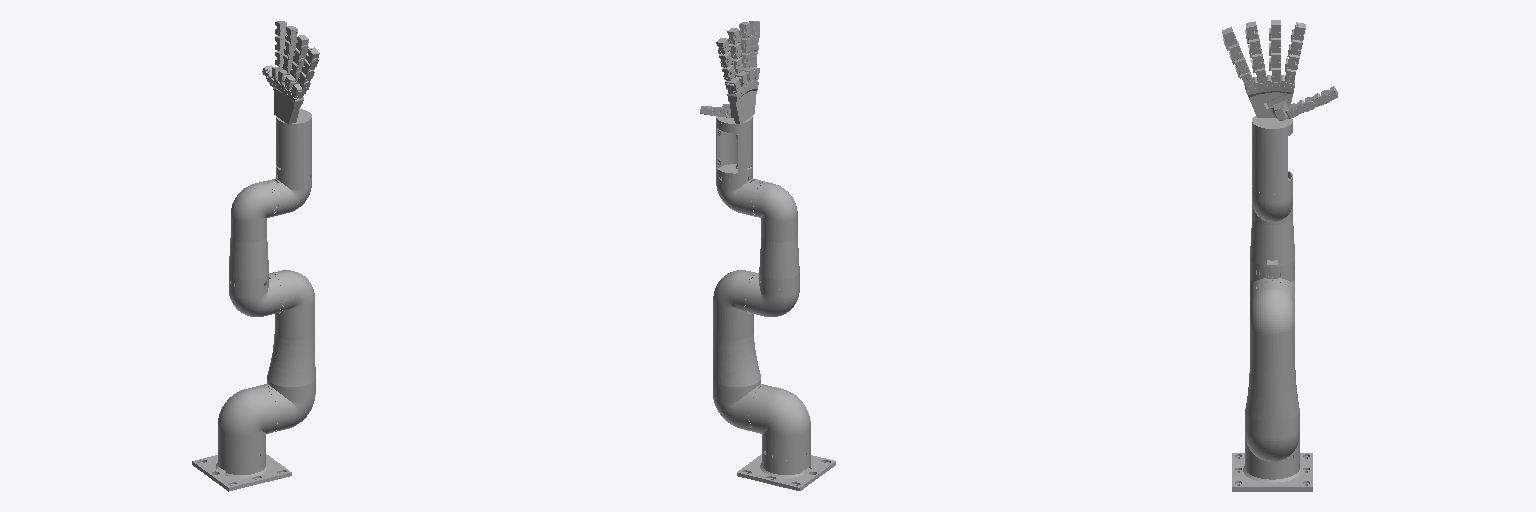
--- Facts derived from the render (not from the file) ---
3 views of the same robot in one strip: view 1: azimuth 30°, elevation 25°; view 2: azimuth 150°, elevation 25°; view 3: azimuth 270°, elevation 25° (orthographic).
Robot: mk — 29 links, 28 joints (26 continuous, 2 fixed); root link world; default pose: every joint at zero.
Visible links, largest first — view 1: link2_1, link4_1, link1_1, base_link, link6_1, link3_1, palm_1, link5_1; view 2: link2_1, link4_1, link1_1, base_link, link6_1, link3_1, palm_1, link5_1; view 3: link2_1, base_link, link4_1, link6_1, palm_1, link5_1, link3_1.
Boxes of the visible links, x1=… form: link2_1: x1=264, y1=270, x2=315, y2=431; link4_1: x1=229, y1=181, x2=276, y2=286; link1_1: x1=218, y1=385, x2=278, y2=457; base_link: x1=192, y1=450, x2=291, y2=491; link6_1: x1=276, y1=120, x2=311, y2=180; link3_1: x1=229, y1=274, x2=283, y2=316; palm_1: x1=272, y1=70, x2=311, y2=125; link5_1: x1=265, y1=175, x2=311, y2=216; link2_1: x1=713, y1=270, x2=763, y2=431; link4_1: x1=752, y1=181, x2=799, y2=286; link1_1: x1=749, y1=385, x2=810, y2=457; base_link: x1=737, y1=450, x2=835, y2=490; link6_1: x1=716, y1=119, x2=752, y2=180; link3_1: x1=745, y1=274, x2=799, y2=316; palm_1: x1=716, y1=71, x2=758, y2=125; link5_1: x1=716, y1=174, x2=762, y2=216; link2_1: x1=1245, y1=281, x2=1299, y2=461; base_link: x1=1232, y1=450, x2=1312, y2=491; link4_1: x1=1250, y1=205, x2=1294, y2=274; link6_1: x1=1252, y1=124, x2=1292, y2=192; palm_1: x1=1244, y1=71, x2=1294, y2=130; link5_1: x1=1252, y1=186, x2=1292, y2=221; link3_1: x1=1250, y1=268, x2=1294, y2=296.
Bounding box of the posed robot: 0.291 × 0.2565 × 1.17 m (x, y, z).
Meshes: 28 distinct files referenced, 28 mesh visuals loaded (28 binary STL).

URDF robot description (mk):
<?xml version="1.0" ?>
<!-- =================================================================================== -->
<!-- |    This document was autogenerated by xacro from [local-path]/catkin_ws/src/mk_description/urdf/mk.xacro | -->
<!-- |    EDITING THIS FILE BY HAND IS NOT RECOMMENDED                                 | -->
<!-- =================================================================================== -->
<robot name="mk">
    <material name="silver">
        <color rgba="0.700 0.700 0.700 1.000" />
    </material>
    <transmission name="joint1_tran">
        <type>transmission_interface/SimpleTransmission</type>
        <joint name="joint1">
            <hardwareInterface>hardware_interface/EffortJointInterface</hardwareInterface>
        </joint>
        <actuator name="joint1_actr">
            <hardwareInterface>hardware_interface/EffortJointInterface</hardwareInterface>
            <mechanicalReduction>1</mechanicalReduction>
        </actuator>
    </transmission>
    <transmission name="joint2_tran">
        <type>transmission_interface/SimpleTransmission</type>
        <joint name="joint2">
            <hardwareInterface>hardware_interface/EffortJointInterface</hardwareInterface>
        </joint>
        <actuator name="joint2_actr">
            <hardwareInterface>hardware_interface/EffortJointInterface</hardwareInterface>
            <mechanicalReduction>1</mechanicalReduction>
        </actuator>
    </transmission>
    <transmission name="joint3_tran">
        <type>transmission_interface/SimpleTransmission</type>
        <joint name="joint3">
            <hardwareInterface>hardware_interface/EffortJointInterface</hardwareInterface>
        </joint>
        <actuator name="joint3_actr">
            <hardwareInterface>hardware_interface/EffortJointInterface</hardwareInterface>
            <mechanicalReduction>1</mechanicalReduction>
        </actuator>
    </transmission>
    <transmission name="joint4_tran">
        <type>transmission_interface/SimpleTransmission</type>
        <joint name="joint4">
            <hardwareInterface>hardware_interface/EffortJointInterface</hardwareInterface>
        </joint>
        <actuator name="joint4_actr">
            <hardwareInterface>hardware_interface/EffortJointInterface</hardwareInterface>
            <mechanicalReduction>1</mechanicalReduction>
        </actuator>
    </transmission>
    <transmission name="joint5_tran">
        <type>transmission_interface/SimpleTransmission</type>
        <joint name="joint5">
            <hardwareInterface>hardware_interface/EffortJointInterface</hardwareInterface>
        </joint>
        <actuator name="joint5_actr">
            <hardwareInterface>hardware_interface/EffortJointInterface</hardwareInterface>
            <mechanicalReduction>1</mechanicalReduction>
        </actuator>
    </transmission>
    <transmission name="joint6_tran">
        <type>transmission_interface/SimpleTransmission</type>
        <joint name="joint6">
            <hardwareInterface>hardware_interface/EffortJointInterface</hardwareInterface>
        </joint>
        <actuator name="joint6_actr">
            <hardwareInterface>hardware_interface/EffortJointInterface</hardwareInterface>
            <mechanicalReduction>1</mechanicalReduction>
        </actuator>
    </transmission>
    <transmission name="joint_index_RT_tran">
        <type>transmission_interface/SimpleTransmission</type>
        <joint name="joint_index_RT">
            <hardwareInterface>hardware_interface/EffortJointInterface</hardwareInterface>
        </joint>
        <actuator name="joint_index_RT_actr">
            <hardwareInterface>hardware_interface/EffortJointInterface</hardwareInterface>
            <mechanicalReduction>1</mechanicalReduction>
        </actuator>
    </transmission>
    <transmission name="joint_middle_RT_tran">
        <type>transmission_interface/SimpleTransmission</type>
        <joint name="joint_middle_RT">
            <hardwareInterface>hardware_interface/EffortJointInterface</hardwareInterface>
        </joint>
        <actuator name="joint_middle_RT_actr">
            <hardwareInterface>hardware_interface/EffortJointInterface</hardwareInterface>
            <mechanicalReduction>1</mechanicalReduction>
        </actuator>
    </transmission>
    <transmission name="joint_ring_RT_tran">
        <type>transmission_interface/SimpleTransmission</type>
        <joint name="joint_ring_RT">
            <hardwareInterface>hardware_interface/EffortJointInterface</hardwareInterface>
        </joint>
        <actuator name="joint_ring_RT_actr">
            <hardwareInterface>hardware_interface/EffortJointInterface</hardwareInterface>
            <mechanicalReduction>1</mechanicalReduction>
        </actuator>
    </transmission>
    <transmission name="joint_pinky_RT_tran">
        <type>transmission_interface/SimpleTransmission</type>
        <joint name="joint_pinky_RT">
            <hardwareInterface>hardware_interface/EffortJointInterface</hardwareInterface>
        </joint>
        <actuator name="joint_pinky_RT_actr">
            <hardwareInterface>hardware_interface/EffortJointInterface</hardwareInterface>
            <mechanicalReduction>1</mechanicalReduction>
        </actuator>
    </transmission>
    <transmission name="joint_index_MCP_tran">
        <type>transmission_interface/SimpleTransmission</type>
        <joint name="joint_index_MCP">
            <hardwareInterface>hardware_interface/EffortJointInterface</hardwareInterface>
        </joint>
        <actuator name="joint_index_MCP_actr">
            <hardwareInterface>hardware_interface/EffortJointInterface</hardwareInterface>
            <mechanicalReduction>1</mechanicalReduction>
        </actuator>
    </transmission>
    <transmission name="joint_index_PIP_tran">
        <type>transmission_interface/SimpleTransmission</type>
        <joint name="joint_index_PIP">
            <hardwareInterface>hardware_interface/EffortJointInterface</hardwareInterface>
        </joint>
        <actuator name="joint_index_PIP_actr">
            <hardwareInterface>hardware_interface/EffortJointInterface</hardwareInterface>
            <mechanicalReduction>1</mechanicalReduction>
        </actuator>
    </transmission>
    <transmission name="joint_index_DIP_tran">
        <type>transmission_interface/SimpleTransmission</type>
        <joint name="joint_index_DIP">
            <hardwareInterface>hardware_interface/EffortJointInterface</hardwareInterface>
        </joint>
        <actuator name="joint_index_DIP_actr">
            <hardwareInterface>hardware_interface/EffortJointInterface</hardwareInterface>
            <mechanicalReduction>1</mechanicalReduction>
        </actuator>
    </transmission>
    <transmission name="joint_middle_MCP_tran">
        <type>transmission_interface/SimpleTransmission</type>
        <joint name="joint_middle_MCP">
            <hardwareInterface>hardware_interface/EffortJointInterface</hardwareInterface>
        </joint>
        <actuator name="joint_middle_MCP_actr">
            <hardwareInterface>hardware_interface/EffortJointInterface</hardwareInterface>
            <mechanicalReduction>1</mechanicalReduction>
        </actuator>
    </transmission>
    <transmission name="joint_middle_PIP_tran">
        <type>transmission_interface/SimpleTransmission</type>
        <joint name="joint_middle_PIP">
            <hardwareInterface>hardware_interface/EffortJointInterface</hardwareInterface>
        </joint>
        <actuator name="joint_middle_PIP_actr">
            <hardwareInterface>hardware_interface/EffortJointInterface</hardwareInterface>
            <mechanicalReduction>1</mechanicalReduction>
        </actuator>
    </transmission>
    <transmission name="joint_middle_DIP_tran">
        <type>transmission_interface/SimpleTransmission</type>
        <joint name="joint_middle_DIP">
            <hardwareInterface>hardware_interface/EffortJointInterface</hardwareInterface>
        </joint>
        <actuator name="joint_middle_DIP_actr">
            <hardwareInterface>hardware_interface/EffortJointInterface</hardwareInterface>
            <mechanicalReduction>1</mechanicalReduction>
        </actuator>
    </transmission>
    <transmission name="joint_ring_MCP_tran">
        <type>transmission_interface/SimpleTransmission</type>
        <joint name="joint_ring_MCP">
            <hardwareInterface>hardware_interface/EffortJointInterface</hardwareInterface>
        </joint>
        <actuator name="joint_ring_MCP_actr">
            <hardwareInterface>hardware_interface/EffortJointInterface</hardwareInterface>
            <mechanicalReduction>1</mechanicalReduction>
        </actuator>
    </transmission>
    <transmission name="joint_ring_PIP_tran">
        <type>transmission_interface/SimpleTransmission</type>
        <joint name="joint_ring_PIP">
            <hardwareInterface>hardware_interface/EffortJointInterface</hardwareInterface>
        </joint>
        <actuator name="joint_ring_PIP_actr">
            <hardwareInterface>hardware_interface/EffortJointInterface</hardwareInterface>
            <mechanicalReduction>1</mechanicalReduction>
        </actuator>
    </transmission>
    <transmission name="joint_ring_DIP_tran">
        <type>transmission_interface/SimpleTransmission</type>
        <joint name="joint_ring_DIP">
            <hardwareInterface>hardware_interface/EffortJointInterface</hardwareInterface>
        </joint>
        <actuator name="joint_ring_DIP_actr">
            <hardwareInterface>hardware_interface/EffortJointInterface</hardwareInterface>
            <mechanicalReduction>1</mechanicalReduction>
        </actuator>
    </transmission>
    <transmission name="joint_pinky_MCP_tran">
        <type>transmission_interface/SimpleTransmission</type>
        <joint name="joint_pinky_MCP">
            <hardwareInterface>hardware_interface/EffortJointInterface</hardwareInterface>
        </joint>
        <actuator name="joint_pinky_MCP_actr">
            <hardwareInterface>hardware_interface/EffortJointInterface</hardwareInterface>
            <mechanicalReduction>1</mechanicalReduction>
        </actuator>
    </transmission>
    <transmission name="joint_pinky_PIP_tran">
        <type>transmission_interface/SimpleTransmission</type>
        <joint name="joint_pinky_PIP">
            <hardwareInterface>hardware_interface/EffortJointInterface</hardwareInterface>
        </joint>
        <actuator name="joint_pinky_PIP_actr">
            <hardwareInterface>hardware_interface/EffortJointInterface</hardwareInterface>
            <mechanicalReduction>1</mechanicalReduction>
        </actuator>
    </transmission>
    <transmission name="joint_pinky_DIP_tran">
        <type>transmission_interface/SimpleTransmission</type>
        <joint name="joint_pinky_DIP">
            <hardwareInterface>hardware_interface/EffortJointInterface</hardwareInterface>
        </joint>
        <actuator name="joint_pinky_DIP_actr">
            <hardwareInterface>hardware_interface/EffortJointInterface</hardwareInterface>
            <mechanicalReduction>1</mechanicalReduction>
        </actuator>
    </transmission>
    <transmission name="joint_thumb_CMC_1_tran">
        <type>transmission_interface/SimpleTransmission</type>
        <joint name="joint_thumb_CMC_1">
            <hardwareInterface>hardware_interface/EffortJointInterface</hardwareInterface>
        </joint>
        <actuator name="joint_thumb_CMC_1_actr">
            <hardwareInterface>hardware_interface/EffortJointInterface</hardwareInterface>
            <mechanicalReduction>1</mechanicalReduction>
        </actuator>
    </transmission>
    <transmission name="joint_thumb_CMC_2_tran">
        <type>transmission_interface/SimpleTransmission</type>
        <joint name="joint_thumb_CMC_2">
            <hardwareInterface>hardware_interface/EffortJointInterface</hardwareInterface>
        </joint>
        <actuator name="joint_thumb_CMC_2_actr">
            <hardwareInterface>hardware_interface/EffortJointInterface</hardwareInterface>
            <mechanicalReduction>1</mechanicalReduction>
        </actuator>
    </transmission>
    <transmission name="joint_thumb_MP_tran">
        <type>transmission_interface/SimpleTransmission</type>
        <joint name="joint_thumb_MP">
            <hardwareInterface>hardware_interface/EffortJointInterface</hardwareInterface>
        </joint>
        <actuator name="joint_thumb_MP_actr">
            <hardwareInterface>hardware_interface/EffortJointInterface</hardwareInterface>
            <mechanicalReduction>1</mechanicalReduction>
        </actuator>
    </transmission>
    <transmission name="joint_thumb_IP_tran">
        <type>transmission_interface/SimpleTransmission</type>
        <joint name="joint_thumb_IP">
            <hardwareInterface>hardware_interface/EffortJointInterface</hardwareInterface>
        </joint>
        <actuator name="joint_thumb_IP_actr">
            <hardwareInterface>hardware_interface/EffortJointInterface</hardwareInterface>
            <mechanicalReduction>1</mechanicalReduction>
        </actuator>
    </transmission>
    <gazebo>
        <plugin filename="libgazebo_ros_control.so" name="control" />
        <plugin name="gazebo_ros_control" filename="libgazebo_ros_control.so">
            <robotNamespace>/</robotNamespace>
        </plugin>
    </gazebo>
    <gazebo reference="base_link">
        <material>Gazebo/Silver</material>
        <mu1>0.2</mu1>
        <mu2>0.2</mu2>
        <selfCollide>true</selfCollide>
        <gravity>true</gravity>
    </gazebo>
    <gazebo reference="link1_1">
        <material>Gazebo/Silver</material>
        <mu1>0.2</mu1>
        <mu2>0.2</mu2>
        <selfCollide>true</selfCollide>
    </gazebo>
    <gazebo reference="link2_1">
        <material>Gazebo/Silver</material>
        <mu1>0.2</mu1>
        <mu2>0.2</mu2>
        <selfCollide>true</selfCollide>
    </gazebo>
    <gazebo reference="link3_1">
        <material>Gazebo/Silver</material>
        <mu1>0.2</mu1>
        <mu2>0.2</mu2>
        <selfCollide>true</selfCollide>
    </gazebo>
    <gazebo reference="link4_1">
        <material>Gazebo/Silver</material>
        <mu1>0.2</mu1>
        <mu2>0.2</mu2>
        <selfCollide>true</selfCollide>
    </gazebo>
    <gazebo reference="link5_1">
        <material>Gazebo/Silver</material>
        <mu1>0.2</mu1>
        <mu2>0.2</mu2>
        <selfCollide>true</selfCollide>
    </gazebo>
    <gazebo reference="link6_1">
        <material>Gazebo/Silver</material>
        <mu1>0.2</mu1>
        <mu2>0.2</mu2>
        <selfCollide>true</selfCollide>
    </gazebo>
    <gazebo reference="palm_1">
        <material>Gazebo/Silver</material>
        <mu1>0.2</mu1>
        <mu2>0.2</mu2>
        <selfCollide>true</selfCollide>
    </gazebo>
    <gazebo reference="index_1_1">
        <material>Gazebo/Silver</material>
        <mu1>0.2</mu1>
        <mu2>0.2</mu2>
        <selfCollide>true</selfCollide>
    </gazebo>
    <gazebo reference="middle_1_1">
        <material>Gazebo/Silver</material>
        <mu1>0.2</mu1>
        <mu2>0.2</mu2>
        <selfCollide>true</selfCollide>
    </gazebo>
    <gazebo reference="ring_1_1">
        <material>Gazebo/Silver</material>
        <mu1>0.2</mu1>
        <mu2>0.2</mu2>
        <selfCollide>true</selfCollide>
    </gazebo>
    <gazebo reference="pinky_1_1">
        <material>Gazebo/Silver</material>
        <mu1>0.2</mu1>
        <mu2>0.2</mu2>
        <selfCollide>true</selfCollide>
    </gazebo>
    <gazebo reference="index_2_1">
        <material>Gazebo/Silver</material>
        <mu1>0.2</mu1>
        <mu2>0.2</mu2>
        <selfCollide>true</selfCollide>
    </gazebo>
    <gazebo reference="index_3_1">
        <material>Gazebo/Silver</material>
        <mu1>0.2</mu1>
        <mu2>0.2</mu2>
        <selfCollide>true</selfCollide>
    </gazebo>
    <gazebo reference="index_4_1">
        <material>Gazebo/Silver</material>
        <mu1>0.2</mu1>
        <mu2>0.2</mu2>
        <selfCollide>true</selfCollide>
    </gazebo>
    <gazebo reference="middle_2_1">
        <material>Gazebo/Silver</material>
        <mu1>0.2</mu1>
        <mu2>0.2</mu2>
        <selfCollide>true</selfCollide>
    </gazebo>
    <gazebo reference="middle_3_1">
        <material>Gazebo/Silver</material>
        <mu1>0.2</mu1>
        <mu2>0.2</mu2>
        <selfCollide>true</selfCollide>
    </gazebo>
    <gazebo reference="middle_4_1">
        <material>Gazebo/Silver</material>
        <mu1>0.2</mu1>
        <mu2>0.2</mu2>
        <selfCollide>true</selfCollide>
    </gazebo>
    <gazebo reference="ring_2_1">
        <material>Gazebo/Silver</material>
        <mu1>0.2</mu1>
        <mu2>0.2</mu2>
        <selfCollide>true</selfCollide>
    </gazebo>
    <gazebo reference="ring_3_1">
        <material>Gazebo/Silver</material>
        <mu1>0.2</mu1>
        <mu2>0.2</mu2>
        <selfCollide>true</selfCollide>
    </gazebo>
    <gazebo reference="ring_4_1">
        <material>Gazebo/Silver</material>
        <mu1>0.2</mu1>
        <mu2>0.2</mu2>
        <selfCollide>true</selfCollide>
    </gazebo>
    <gazebo reference="pinky_2_1">
        <material>Gazebo/Silver</material>
        <mu1>0.2</mu1>
        <mu2>0.2</mu2>
        <selfCollide>true</selfCollide>
    </gazebo>
    <gazebo reference="pinky_3_1">
        <material>Gazebo/Silver</material>
        <mu1>0.2</mu1>
        <mu2>0.2</mu2>
        <selfCollide>true</selfCollide>
    </gazebo>
    <gazebo reference="pinky_4_1">
        <material>Gazebo/Silver</material>
        <mu1>0.2</mu1>
        <mu2>0.2</mu2>
        <selfCollide>true</selfCollide>
    </gazebo>
    <gazebo reference="thumb_1_1">
        <material>Gazebo/Silver</material>
        <mu1>0.2</mu1>
        <mu2>0.2</mu2>
        <selfCollide>true</selfCollide>
    </gazebo>
    <gazebo reference="thumb_2_1">
        <material>Gazebo/Silver</material>
        <mu1>0.2</mu1>
        <mu2>0.2</mu2>
        <selfCollide>true</selfCollide>
    </gazebo>
    <gazebo reference="thumb_3_1">
        <material>Gazebo/Silver</material>
        <mu1>0.2</mu1>
        <mu2>0.2</mu2>
        <selfCollide>true</selfCollide>
    </gazebo>
    <gazebo reference="thumb_4_1">
        <material>Gazebo/Silver</material>
        <mu1>0.2</mu1>
        <mu2>0.2</mu2>
        <selfCollide>true</selfCollide>
    </gazebo>
    <link name="base_link">
        <inertial>
            <origin rpy="0 0 0" xyz="0.001253595501875241 -2.425128974916387e-16 0.016880943454350202" />
            <mass value="9.000971366531325" />
            <inertia ixx="0.010003" ixy="0.0" ixz="3e-05" iyy="0.009958" iyz="-0.0" izz="0.017765" />
        </inertial>
        <visual>
            <origin rpy="0 0 0" xyz="0 0 0" />
            <geometry>
                <mesh filename="package://mk_description/meshes/base_link.stl" scale="0.001 0.001 0.001" />
            </geometry>
            <material name="silver" />
        </visual>
        <collision>
            <origin rpy="0 0 0" xyz="0 0 0" />
            <geometry>
                <mesh filename="package://mk_description/meshes/base_link.stl" scale="0.001 0.001 0.001" />
            </geometry>
        </collision>
    </link>
    <link name="link1_1">
        <inertial>
            <origin rpy="0 0 0" xyz="0.012757531934532012 1.2186053422867295e-12 0.06719265641075811" />
            <mass value="0.00001" />
            <inertia ixx="0.011232" ixy="0.0" ixz="-0.001286" iyy="0.011123" iyz="0.0" izz="0.009013" />
        </inertial>
        <visual>
            <origin rpy="0 0 0" xyz="-0.0 -0.0 -0.061" />
            <geometry>
                <mesh filename="package://mk_description/meshes/link1_1.stl" scale="0.001 0.001 0.001" />
            </geometry>
            <material name="silver" />
        </visual>
        <collision>
            <origin rpy="0 0 0" xyz="-0.0 -0.0 -0.061" />
            <geometry>
                <mesh filename="package://mk_description/meshes/link1_1.stl" scale="0.001 0.001 0.001" />
            </geometry>
        </collision>
    </link>
    <link name="link2_1">
        <inertial>
            <origin rpy="0 0 0" xyz="0.07202168862575391 -3.5313984794949443e-12 0.1445001916818219" />
            <mass value="0.00001" />
            <inertia ixx="0.132567" ixy="-0.0" ixz="-0.007531" iyy="0.13402" iyz="-0.0" izz="0.029131" />
        </inertial>
        <visual>
            <origin rpy="0 0 0" xyz="-0.071 -0.0 -0.151" />
            <geometry>
                <mesh filename="package://mk_description/meshes/link2_1.stl" scale="0.001 0.001 0.001" />
            </geometry>
            <material name="silver" />
        </visual>
        <collision>
            <origin rpy="0 0 0" xyz="-0.071 -0.0 -0.151" />
            <geometry>
                <mesh filename="package://mk_description/meshes/link2_1.stl" scale="0.001 0.001 0.001" />
            </geometry>
        </collision>
    </link>
    <link name="link3_1">
        <inertial>
            <origin rpy="0 0 0" xyz="-0.05114273870375564 4.038438904121806e-13 0.014758066823390759" />
            <mass value="0.00001" />
            <inertia ixx="0.003791" ixy="0.0" ixz="0.000672" iyy="0.004814" iyz="-0.0" izz="0.004679" />
        </inertial>
        <visual>
            <origin rpy="0 0 0" xyz="-0.09 0.0 -0.461" />
            <geometry>
                <mesh filename="package://mk_description/meshes/link3_1.stl" scale="0.001 0.001 0.001" />
            </geometry>
            <material name="silver" />
        </visual>
        <collision>
            <origin rpy="0 0 0" xyz="-0.09 0.0 -0.461" />
            <geometry>
                <mesh filename="package://mk_description/meshes/link3_1.stl" scale="0.001 0.001 0.001" />
            </geometry>
        </collision>
    </link>
    <link name="link4_1">
        <inertial>
            <origin rpy="0 0 0" xyz="0.002693323451248456 3.8855923684264276e-08 0.08440714552064266" />
            <mass value="0.00001" />
            <inertia ixx="0.033994" ixy="-0.0" ixz="-0.003025" iyy="0.034351" iyz="-0.0" izz="0.010735" />
        </inertial>
        <visual>
            <origin rpy="0 0 0" xyz="-0.02 -0.0 -0.517" />
            <geometry>
                <mesh filename="package://mk_description/meshes/link4_1.stl" scale="0.001 0.001 0.001" />
            </geometry>
            <material name="silver" />
        </visual>
        <collision>
            <origin rpy="0 0 0" xyz="-0.02 -0.0 -0.517" />
            <geometry>
                <mesh filename="package://mk_description/meshes/link4_1.stl" scale="0.001 0.001 0.001" />
            </geometry>
        </collision>
    </link>
    <link name="link5_1">
        <inertial>
            <origin rpy="0 0 0" xyz="0.0559602537349705 -2.0965830206548403e-07 0.016043221095647042" />
            <mass value="0.00001" />
            <inertia ixx="0.002409" ixy="0.0" ixz="-0.000572" iyy="0.003275" iyz="0.0" izz="0.003165" />
        </inertial>
        <visual>
            <origin rpy="0 0 0" xyz="-0.0735 -0.0 -0.721" />
            <geometry>
                <mesh filename="package://mk_description/meshes/link5_1.stl" scale="0.001 0.001 0.001" />
            </geometry>
            <material name="silver" />
        </visual>
        <collision>
            <origin rpy="0 0 0" xyz="-0.0735 -0.0 -0.721" />
            <geometry>
                <mesh filename="package://mk_description/meshes/link5_1.stl" scale="0.001 0.001 0.001" />
            </geometry>
        </collision>
    </link>
    <link name="link6_1">
        <inertial>
            <origin rpy="0 0 0" xyz="0.00010433437375184651 -0.005286826016069605 0.07445480614360678" />
            <mass value="0.00001" />
            <inertia ixx="0.004651" ixy="-1e-06" ixz="6e-06" iyy="0.004904" iyz="2.6e-05" izz="0.001868" />
        </inertial>
        <visual>
            <origin rpy="0 0 0" xyz="-0.1485 -0.0 -0.7745" />
            <geometry>
                <mesh filename="package://mk_description/meshes/link6_1.stl" scale="0.001 0.001 0.001" />
            </geometry>
            <material name="silver" />
        </visual>
        <collision>
            <origin rpy="0 0 0" xyz="-0.1485 -0.0 -0.7745" />
            <geometry>
                <mesh filename="package://mk_description/meshes/link6_1.stl" scale="0.001 0.001 0.001" />
            </geometry>
        </collision>
    </link>
    <link name="palm_1">
        <inertial>
            <origin rpy="0 0 0" xyz="-0.01849799368570129 -0.003288621708244126 0.05472215474509601" />
            <mass value="0.00001" />
            <inertia ixx="0.004173" ixy="-3.9e-05" ixz="0.000254" iyy="0.002907" iyz="0.000149" izz="0.001986" />
        </inertial>
        <visual>
            <origin rpy="0 0 0" xyz="-0.1485 -0.0 -0.9245" />
            <geometry>
                <mesh filename="package://mk_description/meshes/palm_1.stl" scale="0.001 0.001 0.001" />
            </geometry>
            <material name="silver" />
        </visual>
        <collision>
            <origin rpy="0 0 0" xyz="-0.1485 -0.0 -0.9245" />
            <geometry>
                <mesh filename="package://mk_description/meshes/palm_1.stl" scale="0.001 0.001 0.001" />
            </geometry>
        </collision>
    </link>
    <link name="index_1_1">
        <inertial>
            <origin rpy="0 0 0" xyz="-0.012003156274217913 -0.0001843174038660758 0.015503517151384427" />
            <mass value="0.00001" />
            <inertia ixx="7e-06" ixy="1e-06" ixz="-0.0" iyy="1e-05" iyz="1e-06" izz="8e-06" />
        </inertial>
        <visual>
            <origin rpy="0 0 0" xyz="-0.143105 -0.038906 -1.029721" />
            <geometry>
                <mesh filename="package://mk_description/meshes/index_1_1.stl" scale="0.001 0.001 0.001" />
            </geometry>
            <material name="silver" />
        </visual>
        <collision>
            <origin rpy="0 0 0" xyz="-0.143105 -0.038906 -1.029721" />
            <geometry>
                <mesh filename="package://mk_description/meshes/index_1_1.stl" scale="0.001 0.001 0.001" />
            </geometry>
        </collision>
    </link>
    <link name="middle_1_1">
        <inertial>
            <origin rpy="0 0 0" xyz="-0.011873129755786943 -0.003344684606072878 0.015242306952340856" />
            <mass value="0.00001" />
            <inertia ixx="7e-06" ixy="1e-06" ixz="-0.0" iyy="9e-06" iyz="1e-06" izz="8e-06" />
        </inertial>
        <visual>
            <origin rpy="0 0 0" xyz="-0.142823 -0.007655 -1.033686" />
            <geometry>
                <mesh filename="package://mk_description/meshes/middle_1_1.stl" scale="0.001 0.001 0.001" />
            </geometry>
            <material name="silver" />
        </visual>
        <collision>
            <origin rpy="0 0 0" xyz="-0.142823 -0.007655 -1.033686" />
            <geometry>
                <mesh filename="package://mk_description/meshes/middle_1_1.stl" scale="0.001 0.001 0.001" />
            </geometry>
        </collision>
    </link>
    <link name="ring_1_1">
        <inertial>
            <origin rpy="0 0 0" xyz="-0.01177642870038545 -0.006392943751630707 0.01431467736832781" />
            <mass value="0.00001" />
            <inertia ixx="7e-06" ixy="1e-06" ixz="-0.0" iyy="9e-06" iyz="2e-06" izz="9e-06" />
        </inertial>
        <visual>
            <origin rpy="0 0 0" xyz="-0.14332 0.0242 -1.031634" />
            <geometry>
                <mesh filename="package://mk_description/meshes/ring_1_1.stl" scale="0.001 0.001 0.001" />
            </geometry>
            <material name="silver" />
        </visual>
        <collision>
            <origin rpy="0 0 0" xyz="-0.14332 0.0242 -1.031634" />
            <geometry>
                <mesh filename="package://mk_description/meshes/ring_1_1.stl" scale="0.001 0.001 0.001" />
            </geometry>
        </collision>
    </link>
    <link name="pinky_1_1">
        <inertial>
            <origin rpy="0 0 0" xyz="-0.011710261878068423 -0.00918021492423643 0.01276899388554198" />
            <mass value="0.00001" />
            <inertia ixx="7e-06" ixy="1e-06" ixz="-0.0" iyy="8e-06" iyz="1e-06" izz="9e-06" />
        </inertial>
        <visual>
            <origin rpy="0 0 0" xyz="-0.144438 0.053842 -1.022516" />
            <geometry>
                <mesh filename="package://mk_description/meshes/pinky_1_1.stl" scale="0.001 0.001 0.001" />
            </geometry>
            <material name="silver" />
        </visual>
        <collision>
            <origin rpy="0 0 0" xyz="-0.144438 0.053842 -1.022516" />
            <geometry>
                <mesh filename="package://mk_description/meshes/pinky_1_1.stl" scale="0.001 0.001 0.001" />
            </geometry>
        </collision>
    </link>
    <link name="index_2_1">
        <inertial>
            <origin rpy="0 0 0" xyz="0.0013592426070857533 0.014112910707545577 0.006584417463850301" />
            <mass value="0.00001" />
            <inertia ixx="2.4e-05" ixy="-0.0" ixz="-1e-06" iyy="2.2e-05" iyz="1e-06" izz="1.1e-05" />
        </inertial>
        <visual>
            <origin rpy="0 0 0" xyz="-0.13696 -0.030659 -1.064498" />
            <geometry>
                <mesh filename="package://mk_description/meshes/index_2_1.stl" scale="0.001 0.001 0.001" />
            </geometry>
            <material name="silver" />
        </visual>
        <collision>
            <origin rpy="0 0 0" xyz="-0.13696 -0.030659 -1.064498" />
            <geometry>
                <mesh filename="package://mk_description/meshes/index_2_1.stl" scale="0.001 0.001 0.001" />
            </geometry>
        </collision>
    </link>
    <link name="index_3_1">
        <inertial>
            <origin rpy="0 0 0" xyz="0.001359142984049877 0.014112479821706991 0.006584419644577233" />
            <mass value="0.00001" />
            <inertia ixx="2.4e-05" ixy="-0.0" ixz="-1e-06" iyy="2.2e-05" iyz="1e-06" izz="1.1e-05" />
        </inertial>
        <visual>
            <origin rpy="0 0 0" xyz="-0.140923 -0.037336 -1.102207" />
            <geometry>
                <mesh filename="package://mk_description/meshes/index_3_1.stl" scale="0.001 0.001 0.001" />
            </geometry>
            <material name="silver" />
        </visual>
        <collision>
            <origin rpy="0 0 0" xyz="-0.140923 -0.037336 -1.102207" />
            <geometry>
                <mesh filename="package://mk_description/meshes/index_3_1.stl" scale="0.001 0.001 0.001" />
            </geometry>
        </collision>
    </link>
    <link name="index_4_1">
        <inertial>
            <origin rpy="0 0 0" xyz="0.0012067405325764669 0.014773830435752318 0.0046425218728198825" />
            <mass value="0.00001" />
            <inertia ixx="1.7e-05" ixy="-0.0" ixz="-1e-06" iyy="1.5e-05" iyz="-1e-06" izz="1e-05" />
        </inertial>
        <visual>
            <origin rpy="0 0 0" xyz="-0.144886 -0.044012 -1.139916" />
            <geometry>
                <mesh filename="package://mk_description/meshes/index_4_1.stl" scale="0.001 0.001 0.001" />
            </geometry>
            <material name="silver" />
        </visual>
        <collision>
            <origin rpy="0 0 0" xyz="-0.144886 -0.044012 -1.139916" />
            <geometry>
                <mesh filename="package://mk_description/meshes/index_4_1.stl" scale="0.001 0.001 0.001" />
            </geometry>
        </collision>
    </link>
    <link name="middle_2_1">
        <inertial>
            <origin rpy="0 0 0" xyz="0.0009410365815004373 0.012755743075373938 0.008986834760588147" />
            <mass value="0.00001" />
            <inertia ixx="2.4e-05" ixy="0.0" ixz="-1e-06" iyy="2.1e-05" iyz="2e-06" izz="1.1e-05" />
        </inertial>
        <visual>
            <origin rpy="0 0 0" xyz="-0.137217 0.006845 -1.066452" />
            <geometry>
                <mesh filename="package://mk_description/meshes/middle_2_1.stl" scale="0.001 0.001 0.001" />
            </geometry>
            <material name="silver" />
        </visual>
        <collision>
            <origin rpy="0 0 0" xyz="-0.137217 0.006845 -1.066452" />
            <geometry>
                <mesh filename="package://mk_description/meshes/middle_2_1.stl" scale="0.001 0.001 0.001" />
            </geometry>
        </collision>
    </link>
    <link name="middle_3_1">
        <inertial>
            <origin rpy="0 0 0" xyz="0.0009403824173050968 0.012755743075381711 0.008986927732266725" />
            <mass value="0.00001" />
            <inertia ixx="2.4e-05" ixy="0.0" ixz="-1e-06" iyy="2.1e-05" iyz="2e-06" izz="1.1e-05" />
        </inertial>
        <visual>
            <origin rpy="0 0 0" xyz="-0.141242 0.006845 -1.104741" />
            <geometry>
                <mesh filename="package://mk_description/meshes/middle_3_1.stl" scale="0.001 0.001 0.001" />
            </geometry>
            <material name="silver" />
        </visual>
        <collision>
            <origin rpy="0 0 0" xyz="-0.141242 0.006845 -1.104741" />
            <geometry>
                <mesh filename="package://mk_description/meshes/middle_3_1.stl" scale="0.001 0.001 0.001" />
            </geometry>
        </collision>
    </link>
    <link name="middle_4_1">
        <inertial>
            <origin rpy="0 0 0" xyz="0.0007519472486991197 0.013745528207874521 0.007193841713581728" />
            <mass value="0.00001" />
            <inertia ixx="1.7e-05" ixy="-0.0" ixz="-1e-06" iyy="1.5e-05" iyz="-0.0" izz="9e-06" />
        </inertial>
        <visual>
            <origin rpy="0 0 0" xyz="-0.145266 0.006845 -1.14303" />
            <geometry>
                <mesh filename="package://mk_description/meshes/middle_4_1.stl" scale="0.001 0.001 0.001" />
            </geometry>
            <material name="silver" />
        </visual>
        <collision>
            <origin rpy="0 0 0" xyz="-0.145266 0.006845 -1.14303" />
            <geometry>
                <mesh filename="package://mk_description/meshes/middle_4_1.stl" scale="0.001 0.001 0.001" />
            </geometry>
        </collision>
    </link>
    <link name="ring_2_1">
        <inertial>
            <origin rpy="0 0 0" xyz="0.0004933103936223815 0.010978865647973998 0.01111737284077896" />
            <mass value="0.00001" />
            <inertia ixx="2.4e-05" ixy="1e-06" ixz="-1e-06" iyy="2e-05" iyz="4e-06" izz="1.2e-05" />
        </inertial>
        <visual>
            <origin rpy="0 0 0" xyz="-0.138159 0.044474 -1.061258" />
            <geometry>
                <mesh filename="package://mk_description/meshes/ring_2_1.stl" scale="0.001 0.001 0.001" />
            </geometry>
            <material name="silver" />
        </visual>
        <collision>
            <origin rpy="0 0 0" xyz="-0.138159 0.044474 -1.061258" />
            <geometry>
                <mesh filename="package://mk_description/meshes/ring_2_1.stl" scale="0.001 0.001 0.001" />
            </geometry>
        </collision>
    </link>
    <link name="ring_3_1">
        <inertial>
            <origin rpy="0 0 0" xyz="0.0004932107705865052 0.010978296533827897 0.011117375021508336" />
            <mass value="0.00001" />
            <inertia ixx="2.4e-05" ixy="1e-06" ixz="-1e-06" iyy="2e-05" iyz="4e-06" izz="1.2e-05" />
        </inertial>
        <visual>
            <origin rpy="0 0 0" xyz="-0.142122 0.05115 -1.098967" />
            <geometry>
                <mesh filename="package://mk_description/meshes/ring_3_1.stl" scale="0.001 0.001 0.001" />
            </geometry>
            <material name="silver" />
        </visual>
        <collision>
            <origin rpy="0 0 0" xyz="-0.142122 0.05115 -1.098967" />
            <geometry>
                <mesh filename="package://mk_description/meshes/ring_3_1.stl" scale="0.001 0.001 0.001" />
            </geometry>
        </collision>
    </link>
    <link name="ring_4_1">
        <inertial>
            <origin rpy="0 0 0" xyz="0.00027360763069000926 0.012264850963387482 0.0095272488413789" />
            <mass value="0.00001" />
            <inertia ixx="1.7e-05" ixy="0.0" ixz="-1e-06" iyy="1.5e-05" iyz="1e-06" izz="9e-06" />
        </inertial>
        <visual>
            <origin rpy="0 0 0" xyz="-0.146085 0.057827 -1.136676" />
            <geometry>
                <mesh filename="package://mk_description/meshes/ring_4_1.stl" scale="0.001 0.001 0.001" />
            </geometry>
            <material name="silver" />
        </visual>
        <collision>
            <origin rpy="0 0 0" xyz="-0.146085 0.057827 -1.136676" />
            <geometry>
                <mesh filename="package://mk_description/meshes/ring_4_1.stl" scale="0.001 0.001 0.001" />
            </geometry>
        </collision>
    </link>
    <link name="pinky_2_1">
        <inertial>
            <origin rpy="0 0 0" xyz="2.2107880944283176e-05 0.008666033434462497 0.012814334487809775" />
            <mass value="0.00001" />
            <inertia ixx="2.4e-05" ixy="1e-06" ixz="-1e-06" iyy="1.8e-05" iyz="5e-06" izz="1.4e-05" />
        </inertial>
        <visual>
            <origin rpy="0 0 0" xyz="-0.139636 0.079177 -1.048017" />
            <geometry>
                <mesh filename="package://mk_description/meshes/pinky_2_1.stl" scale="0.001 0.001 0.001" />
            </geometry>
            <material name="silver" />
        </visual>
        <collision>
            <origin rpy="0 0 0" xyz="-0.139636 0.079177 -1.048017" />
            <geometry>
                <mesh filename="package://mk_description/meshes/pinky_2_1.stl" scale="0.001 0.001 0.001" />
            </geometry>
        </collision>
    </link>
    <link name="pinky_3_1">
        <inertial>
            <origin rpy="0 0 0" xyz="8.091020338218957e-06 0.008852933732520829 0.012884042204742041" />
            <mass value="0.00001" />
            <inertia ixx="2.4e-05" ixy="1e-06" ixz="-1e-06" iyy="1.8e-05" iyz="5e-06" izz="1.4e-05" />
        </inertial>
        <visual>
            <origin rpy="0 0 0" xyz="-0.143427 0.092468 -1.083951" />
            <geometry>
                <mesh filename="package://mk_description/meshes/pinky_3_1.stl" scale="0.001 0.001 0.001" />
            </geometry>
            <material name="silver" />
        </visual>
        <collision>
            <origin rpy="0 0 0" xyz="-0.143427 0.092468 -1.083951" />
            <geometry>
                <mesh filename="package://mk_description/meshes/pinky_3_1.stl" scale="0.001 0.001 0.001" />
            </geometry>
        </collision>
    </link>
    <link name="pinky_4_1">
        <inertial>
            <origin rpy="0 0 0" xyz="-0.00023699550517802814 0.010392110335995783 0.01154159751508299" />
            <mass value="0.00001" />
            <inertia ixx="1.7e-05" ixy="0.0" ixz="-1e-06" iyy="1.5e-05" iyz="2e-06" izz="1e-05" />
        </inertial>
        <visual>
            <origin rpy="0 0 0" xyz="-0.147204 0.105572 -1.119955" />
            <geometry>
                <mesh filename="package://mk_description/meshes/pinky_4_1.stl" scale="0.001 0.001 0.001" />
            </geometry>
            <material name="silver" />
        </visual>
        <collision>
            <origin rpy="0 0 0" xyz="-0.147204 0.105572 -1.119955" />
            <geometry>
                <mesh filename="package://mk_description/meshes/pinky_4_1.stl" scale="0.001 0.001 0.001" />
            </geometry>
        </collision>
    </link>
    <link name="thumb_1_1">
        <inertial>
            <origin rpy="0 0 0" xyz="0.0033442043857143666 0.01920624215067031 -0.008254977053352541" />
            <mass value="0.00001" />
            <inertia ixx="9e-06" ixy="-2e-06" ixz="-0.0" iyy="8e-06" iyz="1e-06" izz="8e-06" />
        </inertial>
        <visual>
            <origin rpy="0 0 0" xyz="-0.15275 -0.011386 -0.962857" />
            <geometry>
                <mesh filename="package://mk_description/meshes/thumb_1_1.stl" scale="0.001 0.001 0.001" />
            </geometry>
            <material name="silver" />
        </visual>
        <collision>
            <origin rpy="0 0 0" xyz="-0.15275 -0.011386 -0.962857" />
            <geometry>
                <mesh filename="package://mk_description/meshes/thumb_1_1.stl" scale="0.001 0.001 0.001" />
            </geometry>
        </collision>
    </link>
    <link name="thumb_2_1">
        <inertial>
            <origin rpy="0 0 0" xyz="-0.012756223295727287 0.008187679826243473 0.003822349671507075" />
            <mass value="0.00001" />
            <inertia ixx="2.1e-05" ixy="-2e-06" ixz="-1e-06" iyy="1.3e-05" iyz="-5e-06" izz="2.2e-05" />
        </inertial>
        <visual>
            <origin rpy="0 0 0" xyz="-0.16725 -0.048841 -0.958255" />
            <geometry>
                <mesh filename="package://mk_description/meshes/thumb_2_1.stl" scale="0.001 0.001 0.001" />
            </geometry>
            <material name="silver" />
        </visual>
        <collision>
            <origin rpy="0 0 0" xyz="-0.16725 -0.048841 -0.958255" />
            <geometry>
                <mesh filename="package://mk_description/meshes/thumb_2_1.stl" scale="0.001 0.001 0.001" />
            </geometry>
        </collision>
    </link>
    <link name="thumb_3_1">
        <inertial>
            <origin rpy="0 0 0" xyz="-0.012756223295727565 0.0081875296271577 0.0038221527485170492" />
            <mass value="0.00001" />
            <inertia ixx="2.1e-05" ixy="-2e-06" ixz="-1e-06" iyy="1.3e-05" iyz="-5e-06" izz="2.2e-05" />
        </inertial>
        <visual>
            <origin rpy="0 0 0" xyz="-0.16725 -0.083734 -0.974526" />
            <geometry>
                <mesh filename="package://mk_description/meshes/thumb_3_1.stl" scale="0.001 0.001 0.001" />
            </geometry>
            <material name="silver" />
        </visual>
        <collision>
            <origin rpy="0 0 0" xyz="-0.16725 -0.083734 -0.974526" />
            <geometry>
                <mesh filename="package://mk_description/meshes/thumb_3_1.stl" scale="0.001 0.001 0.001" />
            </geometry>
        </collision>
    </link>
    <link name="thumb_4_1">
        <inertial>
            <origin rpy="0 0 0" xyz="-0.013746008428213302 0.006554095628134901 0.00306021727433603" />
            <mass value="0.00001" />
            <inertia ixx="1.5e-05" ixy="0.0" ixz="0.0" iyy="1.1e-05" iyz="-3e-06" izz="1.6e-05" />
        </inertial>
        <visual>
            <origin rpy="0 0 0" xyz="-0.16725 -0.118626 -0.990797" />
            <geometry>
                <mesh filename="package://mk_description/meshes/thumb_4_1.stl" scale="0.001 0.001 0.001" />
            </geometry>
            <material name="silver" />
        </visual>
        <collision>
            <origin rpy="0 0 0" xyz="-0.16725 -0.118626 -0.990797" />
            <geometry>
                <mesh filename="package://mk_description/meshes/thumb_4_1.stl" scale="0.001 0.001 0.001" />
            </geometry>
        </collision>
    </link>
    <joint name="joint1" type="continuous">
        <origin rpy="0 0 0" xyz="0.0 0.0 0.061" />
        <parent link="base_link" />
        <child link="link1_1" />
        <axis xyz="0.0 0.0 1.0" />
        <dynamics damping="1.0" friction="1.0" />
    </joint>
    <joint name="joint2" type="continuous">
        <origin rpy="0 0 0" xyz="0.071 0.0 0.09" />
        <parent link="link1_1" />
        <child link="link2_1" />
        <axis xyz="-1.0 -0.0 -0.0" />
        <dynamics damping="1.0" friction="1.0" />
    </joint>
    <joint name="joint3" type="continuous">
        <origin rpy="0 0 0" xyz="0.019 -0.0 0.31" />
        <parent link="link2_1" />
        <child link="link3_1" />
        <axis xyz="1.0 -0.0 0.0" />
        <dynamics damping="1.0" friction="1.0" />
    </joint>
    <joint name="joint4" type="continuous">
        <origin rpy="0 0 0" xyz="-0.07 0.0 0.056" />
        <parent link="link3_1" />
        <child link="link4_1" />
        <axis xyz="0.0 -0.0 -1.0" />
        <dynamics damping="1.0" friction="1.0" />
    </joint>
    <joint name="joint5" type="continuous">
        <origin rpy="0 0 0" xyz="0.0535 0.0 0.204" />
        <parent link="link4_1" />
        <child link="link5_1" />
        <axis xyz="-1.0 0.0 0.0" />
        <dynamics damping="1.0" friction="1.0" />
    </joint>
    <joint name="joint6" type="continuous">
        <origin rpy="0 0 0" xyz="0.075 0.0 0.0535" />
        <parent link="link5_1" />
        <child link="link6_1" />
        <axis xyz="-0.0 0.0 -1.0" />
        <dynamics damping="1.0" friction="1.0" />
    </joint>
    <joint name="fixed_hand_link6" type="fixed">
        <origin rpy="0 0 0" xyz="0.0 0.0 0.15" />
        <parent link="link6_1" />
        <child link="palm_1" />
    </joint>
    <joint name="joint_index_RT" type="continuous">
        <origin rpy="0 0 0" xyz="-0.005395 0.038906 0.105221" />
        <parent link="palm_1" />
        <child link="index_1_1" />
        <axis xyz="-0.994109 0.051541 0.095347" />
        <dynamics damping="1.0" friction="1.0" />
    </joint>
    <joint name="joint_middle_RT" type="continuous">
        <origin rpy="0 0 0" xyz="-0.005677 0.007655 0.109186" />
        <parent link="palm_1" />
        <child link="middle_1_1" />
        <axis xyz="-0.994522 0.0 0.104528" />
        <dynamics damping="1.0" friction="1.0" />
    </joint>
    <joint name="joint_ring_RT" type="continuous">
        <origin rpy="0 0 0" xyz="-0.00518 -0.0242 0.107134" />
        <parent link="palm_1" />
        <child link="ring_1_1" />
        <axis xyz="-0.994109 -0.051541 0.095347" />
        <dynamics damping="1.0" friction="1.0" />
    </joint>
    <joint name="joint_pinky_RT" type="continuous">
        <origin rpy="0 0 0" xyz="-0.004062 -0.053842 0.098016" />
        <parent link="palm_1" />
        <child link="pinky_1_1" />
        <axis xyz="-0.992811 -0.098225 0.068401" />
        <dynamics damping="1.0" friction="1.0" />
    </joint>
    <joint name="joint_index_MCP" type="continuous">
        <origin rpy="0 0 0" xyz="-0.006145 -0.008247 0.034777" />
        <parent link="index_1_1" />
        <child link="index_2_1" />
        <axis xyz="0.033947 0.983499 -0.177701" />
        <dynamics damping="1.0" friction="1.0" />
    </joint>
    <joint name="joint_index_PIP" type="continuous">
        <origin rpy="0 0 0" xyz="0.003963 0.006677 0.037709" />
        <parent link="index_2_1" />
        <child link="index_3_1" />
        <axis xyz="0.033947 0.983499 -0.177701" />
        <dynamics damping="1.0" friction="1.0" />
    </joint>
    <joint name="joint_index_DIP" type="continuous">
        <origin rpy="0 0 0" xyz="0.003963 0.006676 0.037709" />
        <parent link="index_3_1" />
        <child link="index_4_1" />
        <axis xyz="0.033947 0.983499 -0.177701" />
        <dynamics damping="1.0" friction="1.0" />
    </joint>
    <joint name="joint_middle_MCP" type="continuous">
        <origin rpy="0 0 0" xyz="-0.005606 -0.0145 0.032766" />
        <parent link="middle_1_1" />
        <child link="middle_2_1" />
        <axis xyz="-0.0 1.0 -0.0" />
        <dynamics damping="1.0" friction="1.0" />
    </joint>
    <joint name="joint_middle_PIP" type="continuous">
        <origin rpy="0 0 0" xyz="0.004025 0.0 0.038289" />
        <parent link="middle_2_1" />
        <child link="middle_3_1" />
        <axis xyz="-0.0 1.0 -0.0" />
        <dynamics damping="1.0" friction="1.0" />
    </joint>
    <joint name="joint_middle_DIP" type="continuous">
        <origin rpy="0 0 0" xyz="0.004024 0.0 0.038289" />
        <parent link="middle_3_1" />
        <child link="middle_4_1" />
        <axis xyz="-0.0 1.0 -0.0" />
        <dynamics damping="1.0" friction="1.0" />
    </joint>
    <joint name="joint_ring_MCP" type="continuous">
        <origin rpy="0 0 0" xyz="-0.005161 -0.020274 0.029624" />
        <parent link="ring_1_1" />
        <child link="ring_2_1" />
        <axis xyz="-0.033947 0.983499 0.177701" />
        <dynamics damping="1.0" friction="1.0" />
    </joint>
    <joint name="joint_ring_PIP" type="continuous">
        <origin rpy="0 0 0" xyz="0.003963 -0.006676 0.037709" />
        <parent link="ring_2_1" />
        <child link="ring_3_1" />
        <axis xyz="-0.033947 0.983499 0.177701" />
        <dynamics damping="1.0" friction="1.0" />
    </joint>
    <joint name="joint_ring_DIP" type="continuous">
        <origin rpy="0 0 0" xyz="0.003963 -0.006677 0.037709" />
        <parent link="ring_3_1" />
        <child link="ring_4_1" />
        <axis xyz="-0.033947 0.983499 0.177701" />
        <dynamics damping="1.0" friction="1.0" />
    </joint>
    <joint name="joint_pinky_MCP" type="continuous">
        <origin rpy="0 0 0" xyz="-0.004802 -0.025335 0.025501" />
        <parent link="pinky_1_1" />
        <child link="pinky_2_1" />
        <axis xyz="-0.068575 0.935149 0.347555" />
        <dynamics damping="1.0" friction="1.0" />
    </joint>
    <joint name="joint_pinky_PIP" type="continuous">
        <origin rpy="0 0 0" xyz="0.003791 -0.013291 0.035934" />
        <parent link="pinky_2_1" />
        <child link="pinky_3_1" />
        <axis xyz="-0.068575 0.935149 0.347555" />
        <dynamics damping="1.0" friction="1.0" />
    </joint>
    <joint name="joint_pinky_DIP" type="continuous">
        <origin rpy="0 0 0" xyz="0.003777 -0.013104 0.036004" />
        <parent link="pinky_3_1" />
        <child link="pinky_4_1" />
        <axis xyz="-0.068575 0.935149 0.347555" />
        <dynamics damping="1.0" friction="1.0" />
    </joint>
    <joint name="joint_thumb_CMC_1" type="continuous">
        <origin rpy="0 0 0" xyz="0.00425 0.011386 0.038357" />
        <parent link="palm_1" />
        <child link="thumb_1_1" />
        <axis xyz="-0.0 0.422618 -0.906308" />
        <dynamics damping="1.0" friction="1.0" />
    </joint>
    <joint name="joint_thumb_CMC_2" type="continuous">
        <origin rpy="0 0 0" xyz="0.0145 0.037455 -0.004602" />
        <parent link="thumb_1_1" />
        <child link="thumb_2_1" />
        <axis xyz="-1.0 -0.0 -0.0" />
        <dynamics damping="1.0" friction="1.0" />
    </joint>
    <joint name="joint_thumb_MP" type="continuous">
        <origin rpy="0 0 0" xyz="0.0 0.034893 0.016271" />
        <parent link="thumb_2_1" />
        <child link="thumb_3_1" />
        <axis xyz="-1.0 -0.0 -0.0" />
        <dynamics damping="1.0" friction="1.0" />
    </joint>
    <joint name="joint_thumb_IP" type="continuous">
        <origin rpy="0 0 0" xyz="0.0 0.034892 0.016271" />
        <parent link="thumb_3_1" />
        <child link="thumb_4_1" />
        <axis xyz="-1.0 -0.0 -0.0" />
        <dynamics damping="1.0" friction="1.0" />
    </joint>
    <link name="world" />
    <joint name="world_joint" type="fixed">
        <origin rpy="0 0 0" xyz="0 0 0" />
        <parent link="world" />
        <child link="base_link" />
    </joint>


</robot>
